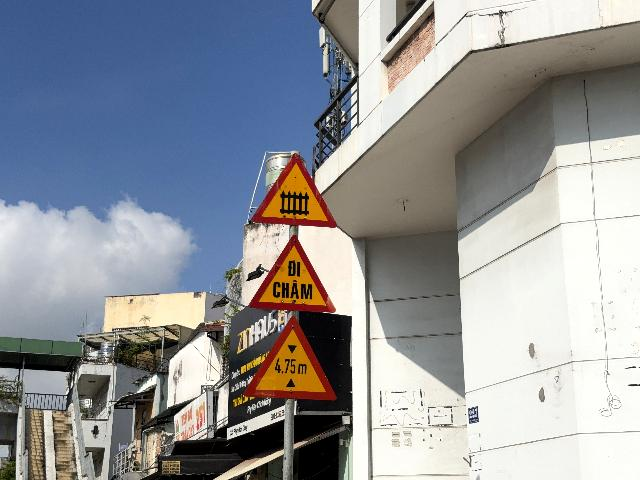chieu-cao-tinh-khong-thuc-te: (243, 315, 337, 401)
di-cham: (249, 235, 335, 313)
noi-giao-nhau-voi-duong-sat-co-rao-chan: (251, 152, 337, 229)
